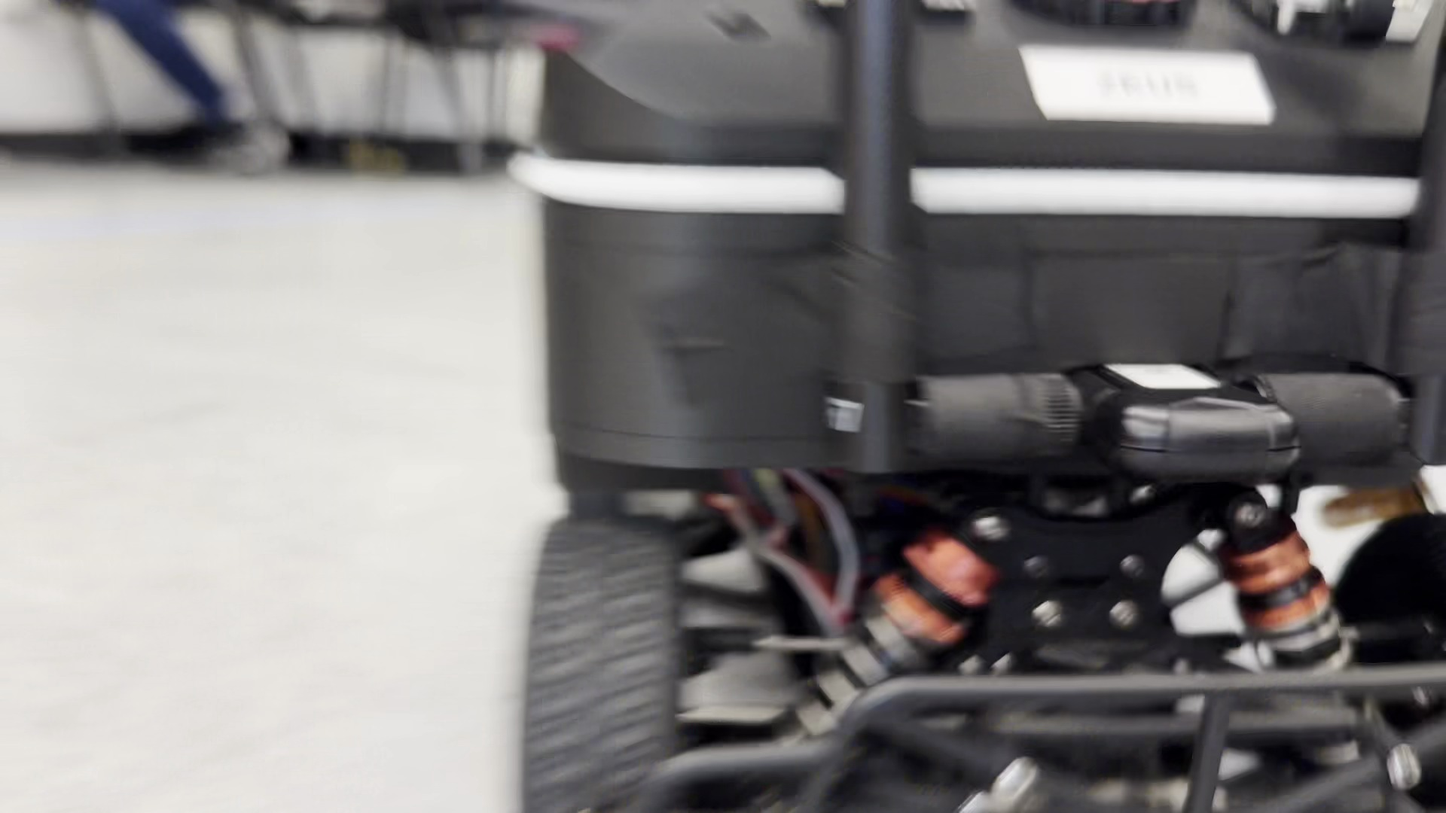racecar: (561, 3, 1446, 813)
